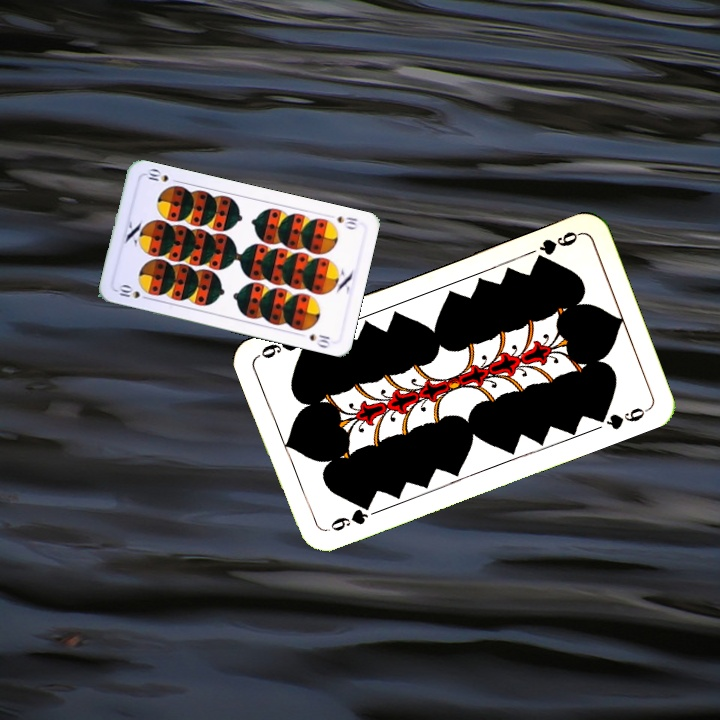G9: (531, 227, 584, 266), (322, 498, 375, 535)
S10: (113, 281, 153, 302), (333, 212, 360, 232)
